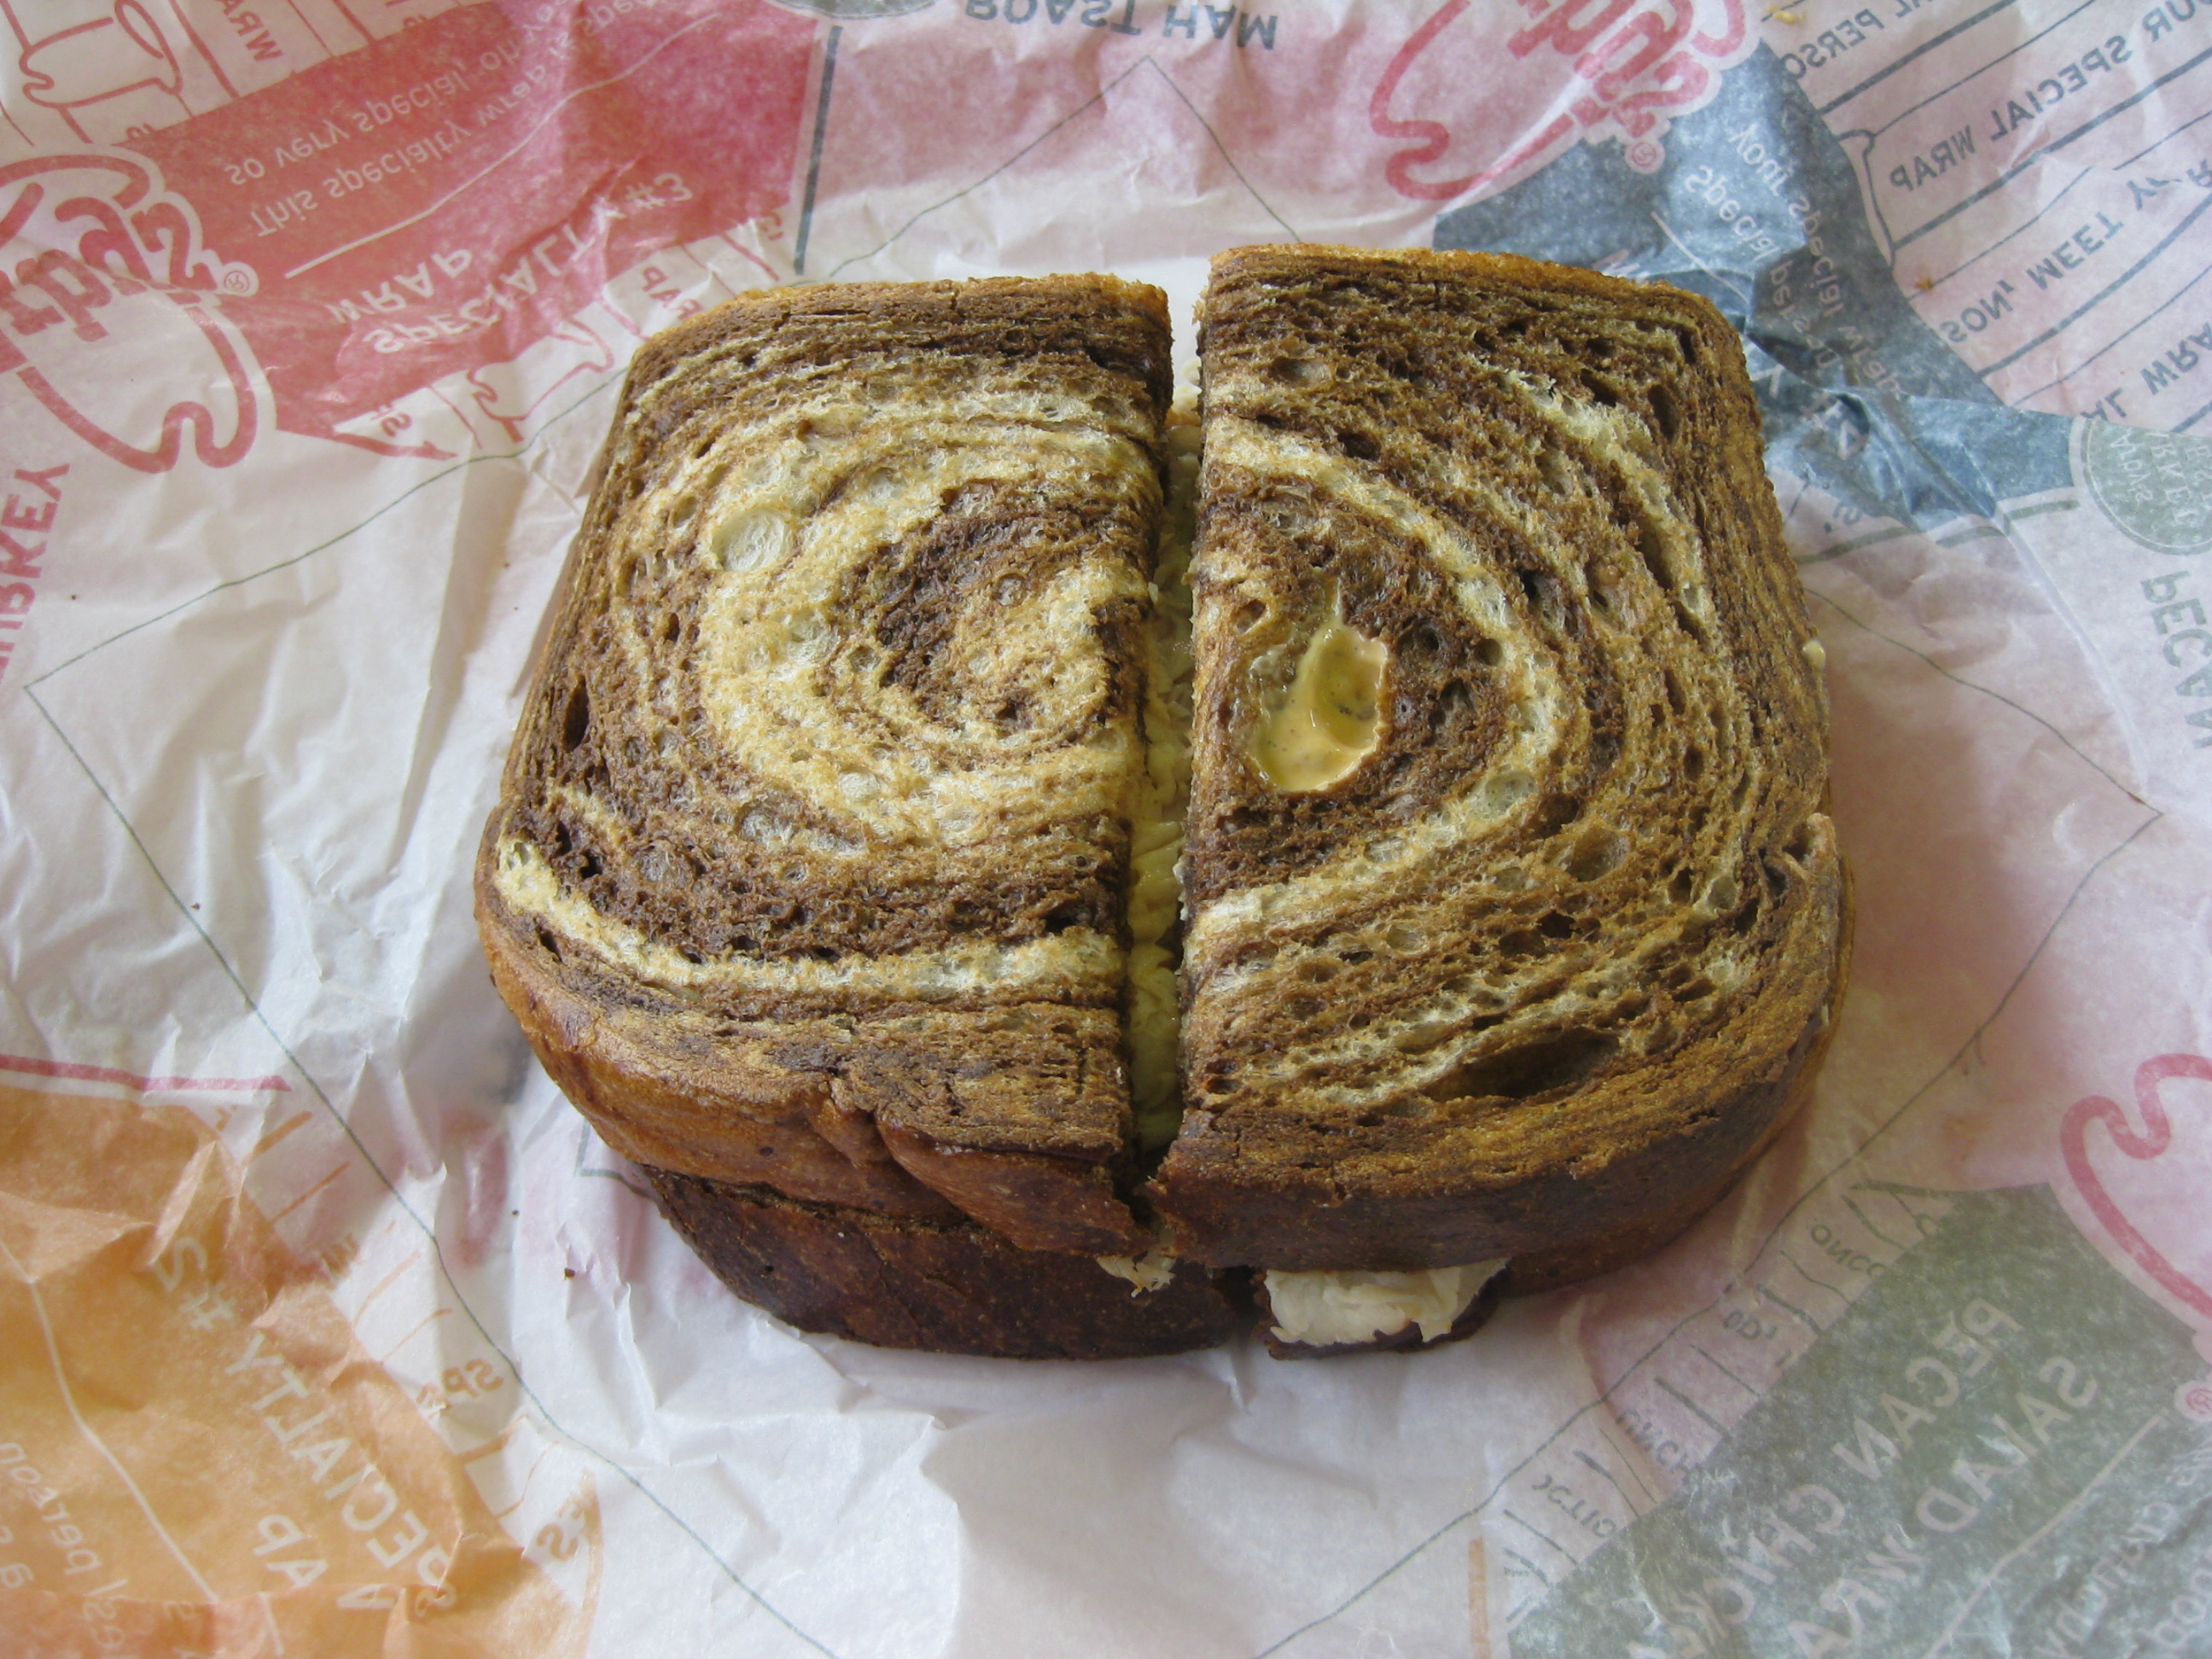sandwich: (473, 187, 1906, 1403)
